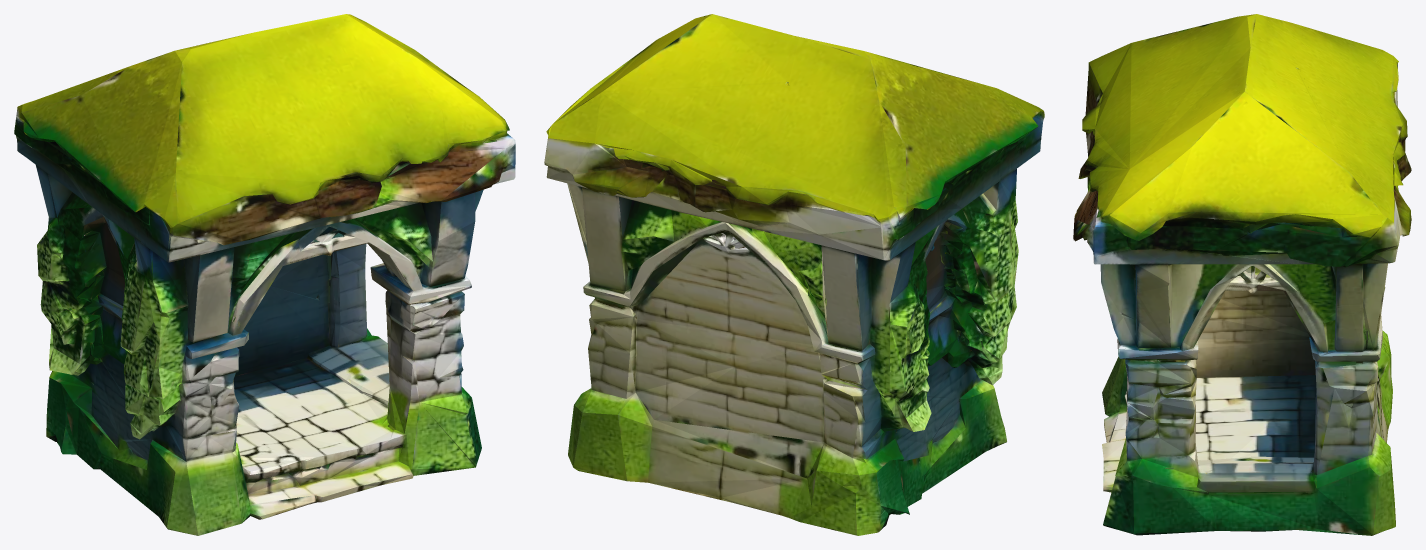
File: landmark_sunken_temple.glb
3 renders of one model, left to right at view 1: azimuth 30°, elevation 25°; view 2: azimuth 150°, elevation 25°; view 3: azimuth 270°, elevation 25°, orthographic. The views are drawn at different scales.
Parts seen in each view (by area): view 1: geometry_0; view 2: geometry_0; view 3: geometry_0.
Boxes of the visible parts, <box> form: geometry_0: <box>14,14,515,535</box>; geometry_0: <box>544,14,1044,535</box>; geometry_0: <box>1073,14,1411,535</box>.
Bounding box in the file's own units: 0.9454 × 0.999 × 0.7495.
Materials: 1 (1 with a texture image).
